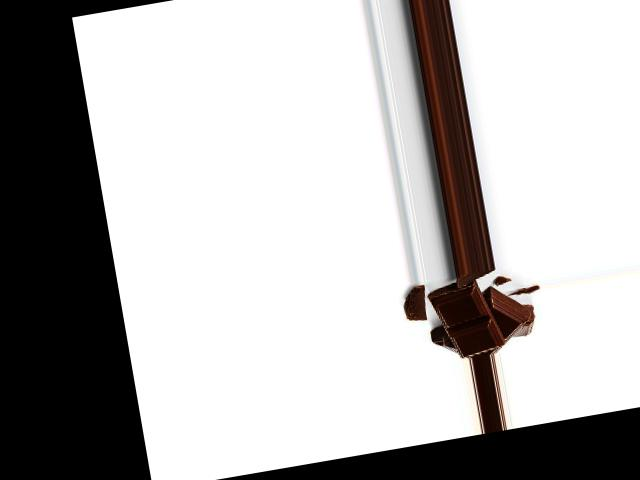chocolate: (429, 278, 506, 358)
